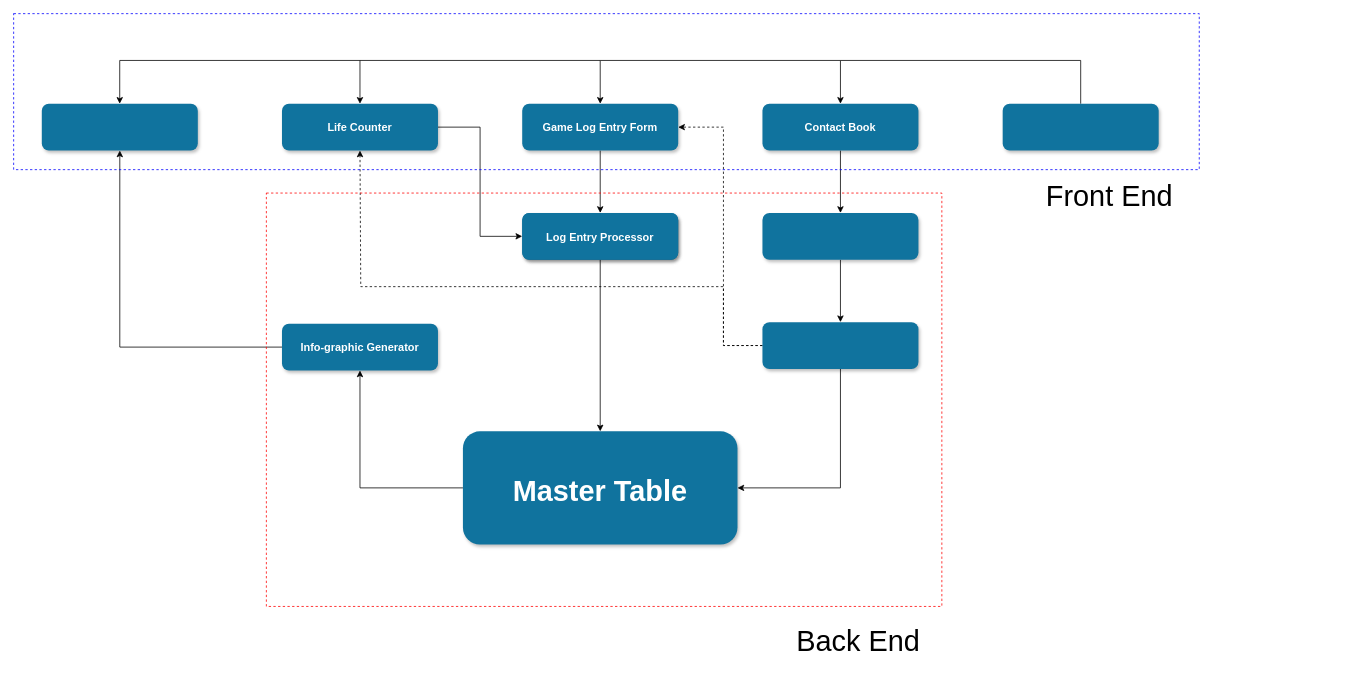
Some shapes in this 1346 by 690 pixel diagram are drawn without their labels. Each missing label, with the centre of its shape:
Contact Profile Data Table: the point at 841,346
New Contact Processor: the point at 841,237
Settings: the point at 1081,128
Statistics Screen: the point at 120,128
